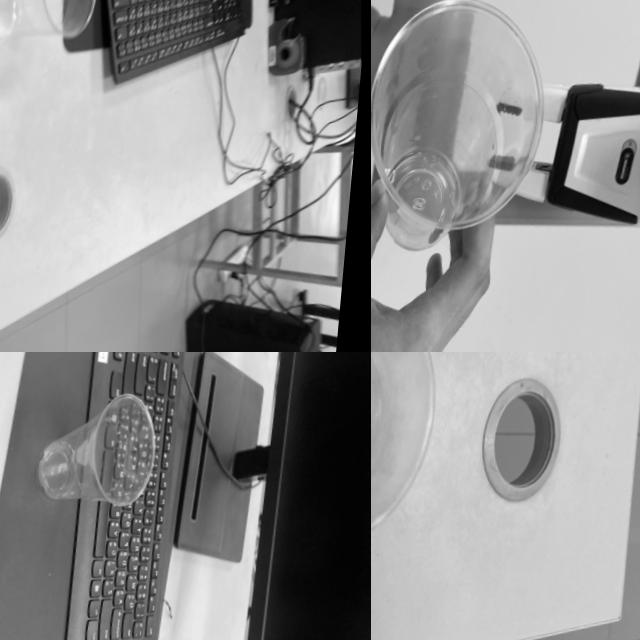glass: (371, 0, 568, 272), (371, 352, 471, 584), (24, 390, 172, 532), (0, 0, 115, 68)
